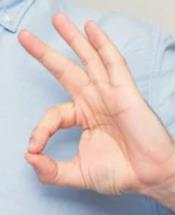left: (16, 12, 162, 198)
